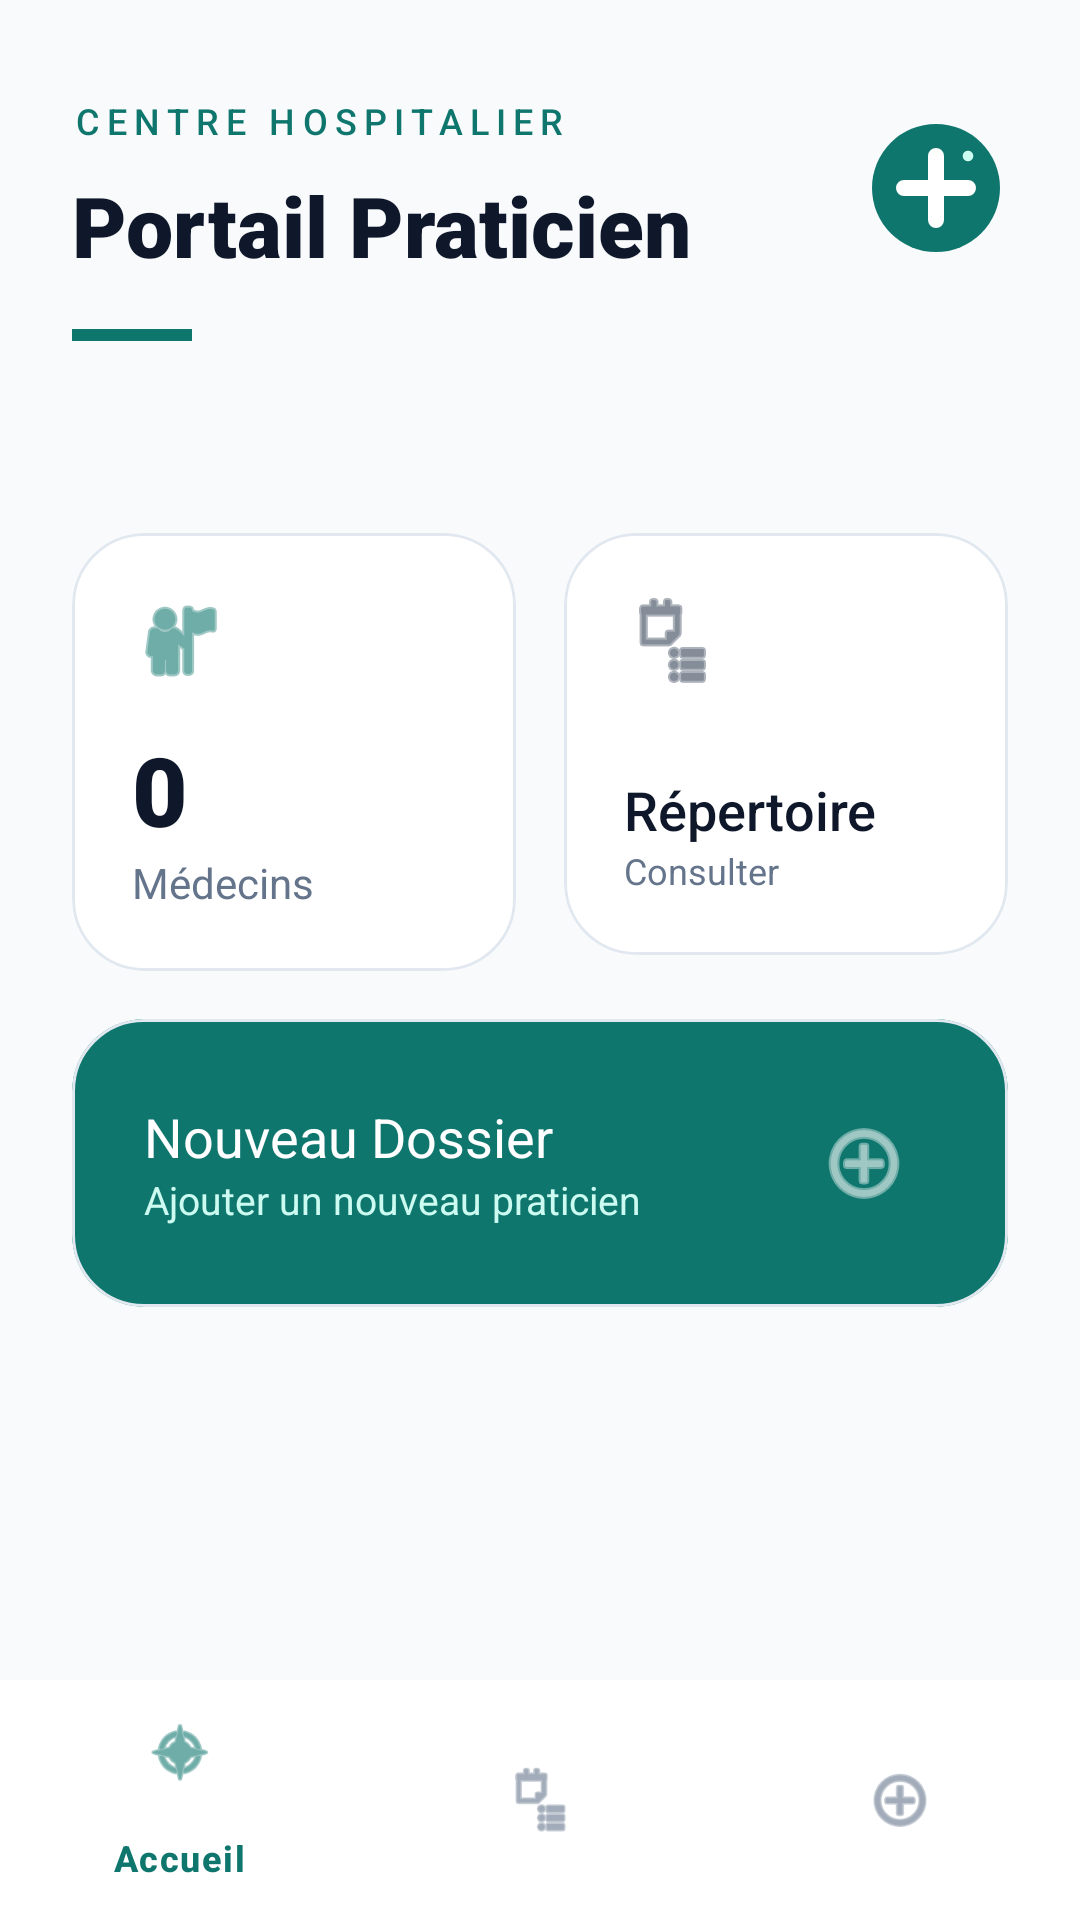

Icons on this 1080px×1920px Android screen, each with its box as {"left": x1, "top": y1, "right": x2, "bottom": y2}:
agenda: {"left": 639, "top": 598, "right": 706, "bottom": 683}
